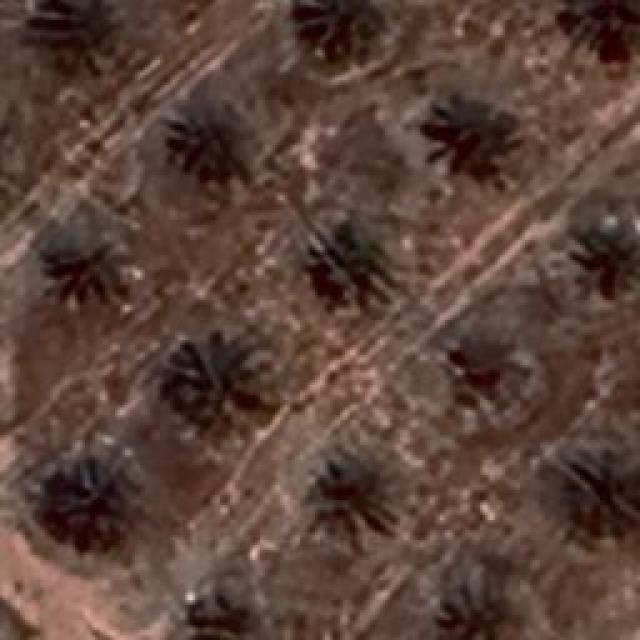PalmTree: (175, 335, 270, 423), (43, 454, 138, 542), (36, 216, 129, 304), (24, 0, 121, 83), (425, 86, 505, 182), (172, 102, 258, 186), (304, 444, 392, 524), (572, 434, 640, 526), (312, 220, 390, 298), (446, 567, 523, 640), (295, 0, 390, 55), (558, 0, 640, 63), (578, 218, 638, 292), (194, 590, 274, 640)
